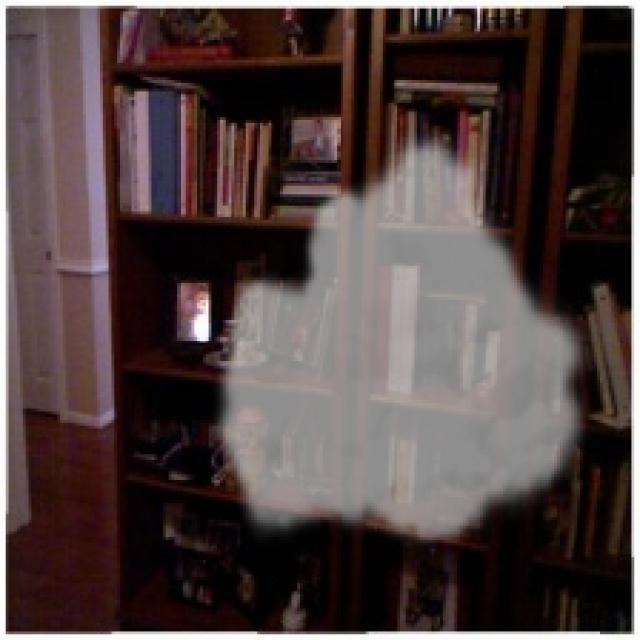Smoke: (212, 126, 597, 548)
